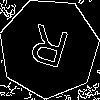R: (24, 23, 72, 78)
